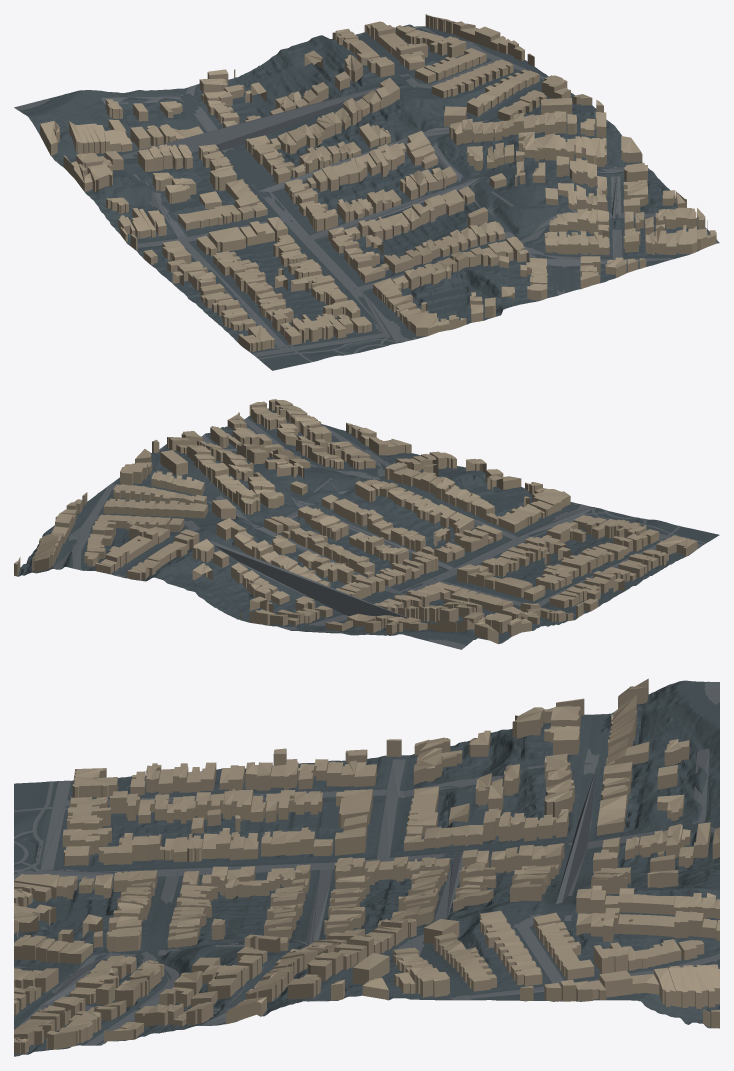
The model's file is epsg26910-1437-10879.lod0.glb.
3 renders of one model, top to bottom at view 1: azimuth 30°, elevation 25°; view 2: azimuth 150°, elevation 25°; view 3: azimuth 270°, elevation 25°, orthographic. The views are drawn at different scales.
Parts seen in each view (by area): view 1: epsg26910-1437-10879-lod0; view 2: epsg26910-1437-10879-lod0; view 3: epsg26910-1437-10879-lod0.
Part boxes in pixels (left/top/right/bottom): epsg26910-1437-10879-lod0: left=14, top=14, right=719, bottom=370; epsg26910-1437-10879-lod0: left=14, top=399, right=719, bottom=649; epsg26910-1437-10879-lod0: left=14, top=678, right=719, bottom=1056.
Bounding box in the file's own units: 384 × 67.01 × 384.
